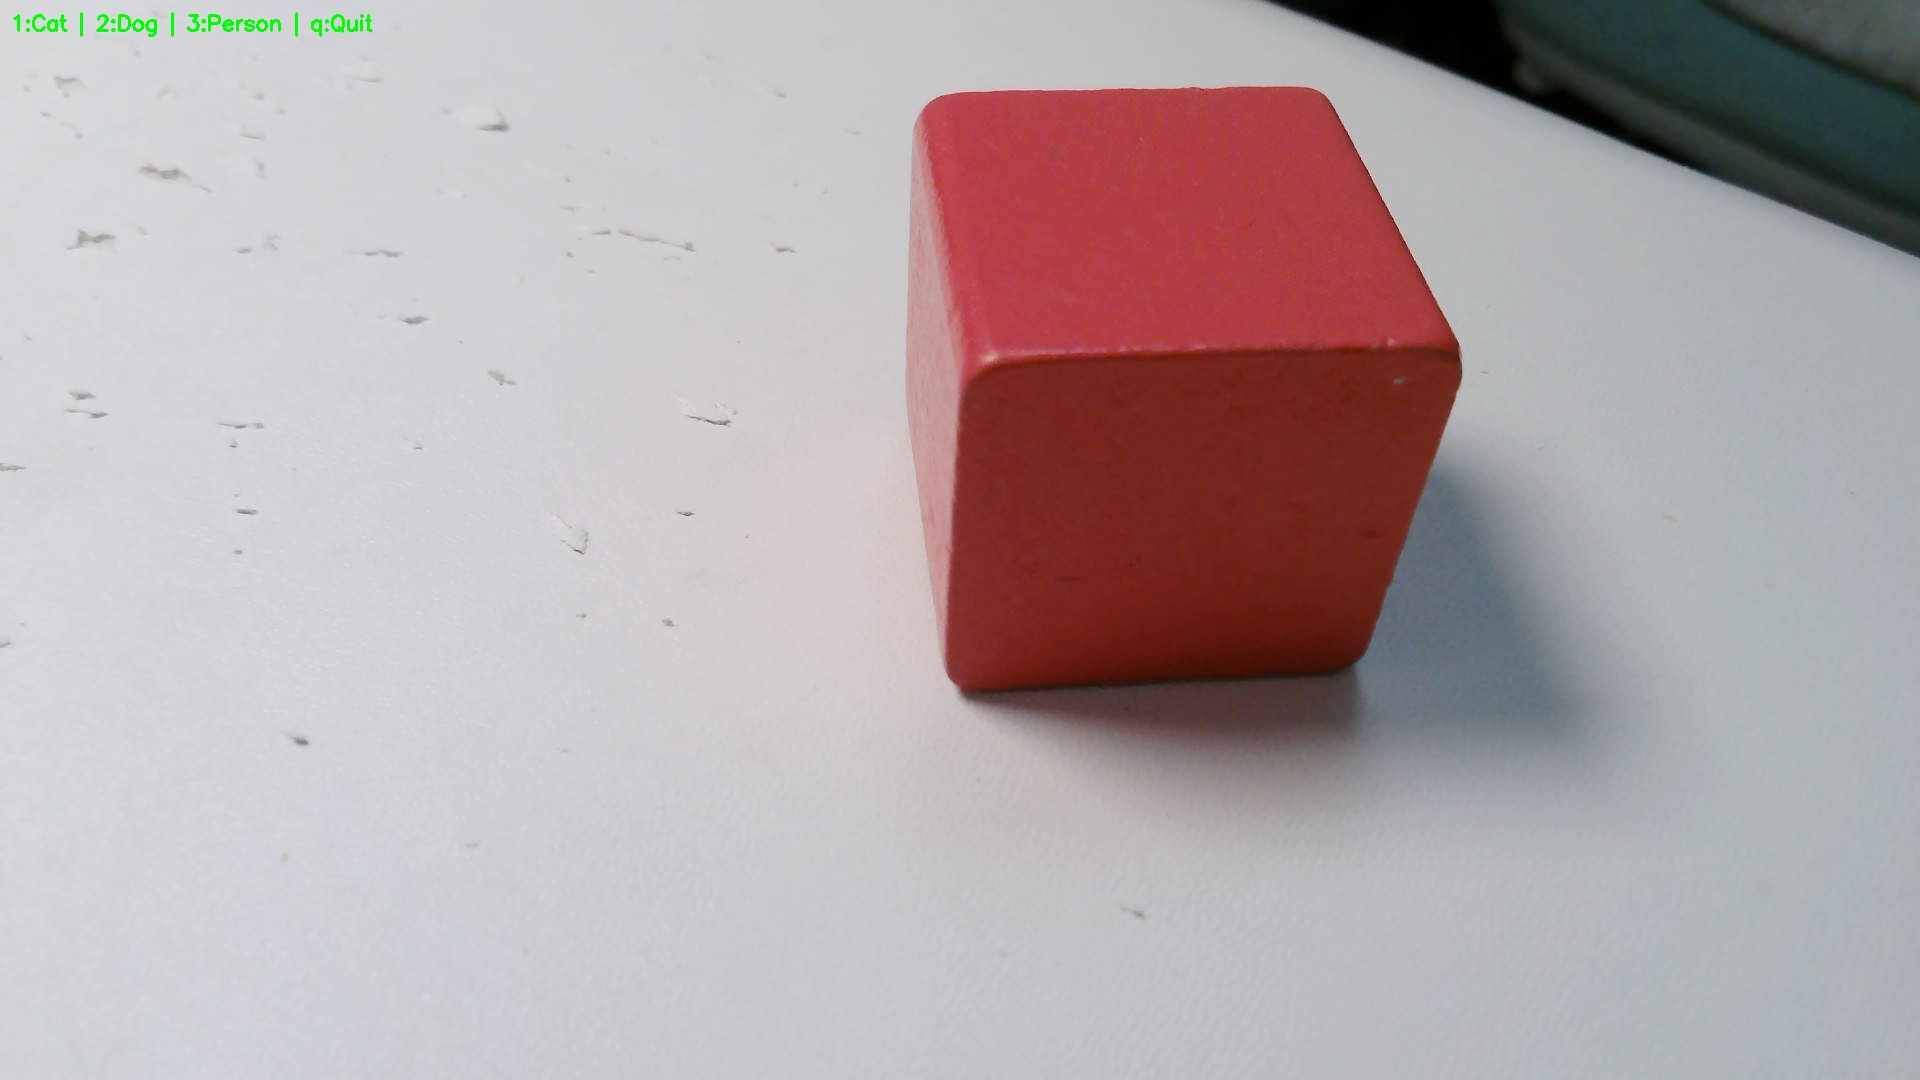red: (902, 87, 1462, 698)
